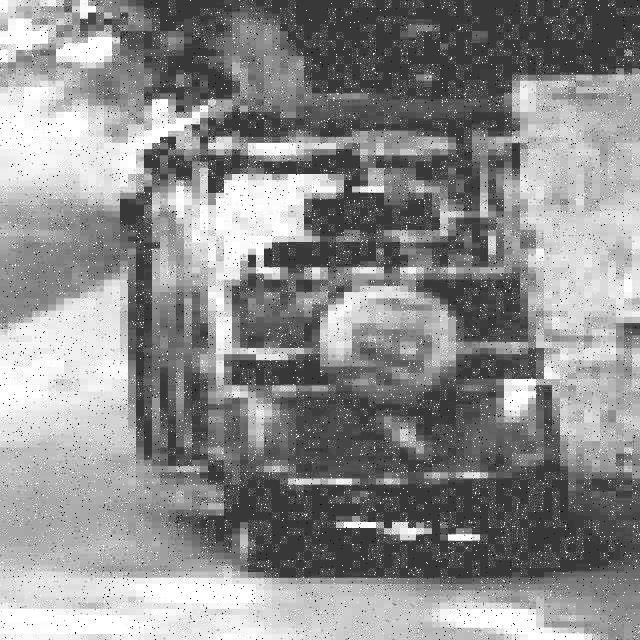Toto: (120, 105, 563, 548)
